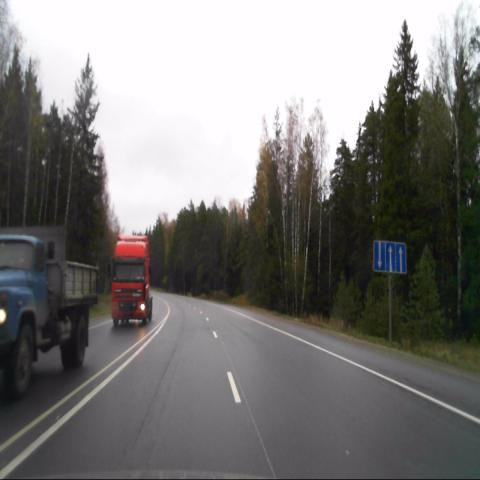5_15_7: (373, 239, 407, 274)
